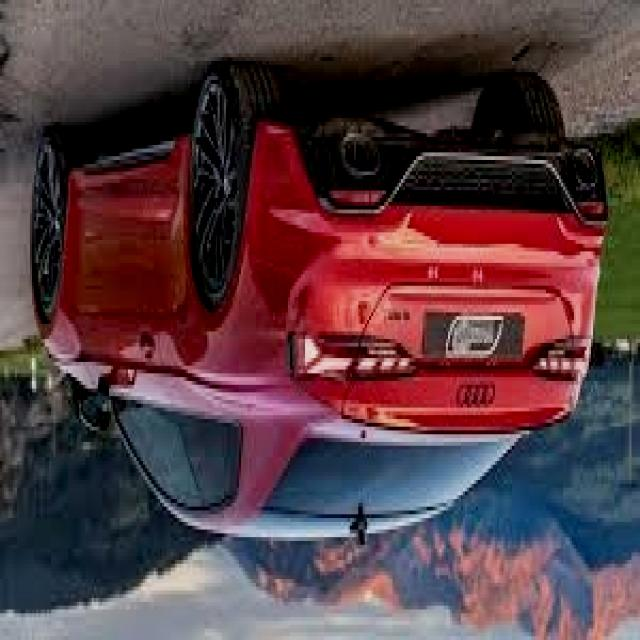red: (14, 109, 640, 545)
